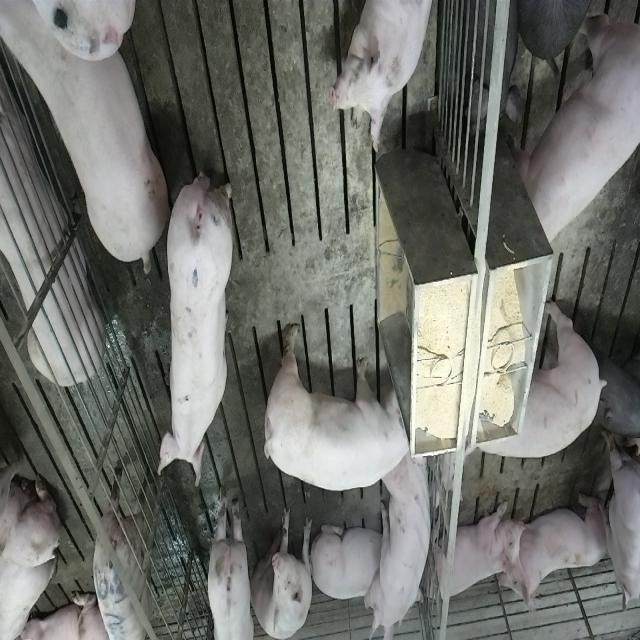Feeding: (267, 316, 417, 496)
Sitting: (367, 457, 435, 640), (252, 505, 314, 639)
Standing: (516, 10, 638, 248), (158, 161, 235, 487), (510, 306, 609, 464), (91, 463, 158, 639), (203, 486, 253, 638), (606, 432, 640, 616), (594, 319, 640, 441)
Sternal_lying: (0, 61, 102, 391), (332, 0, 438, 160), (502, 495, 610, 621), (426, 500, 523, 610), (313, 518, 386, 606)
